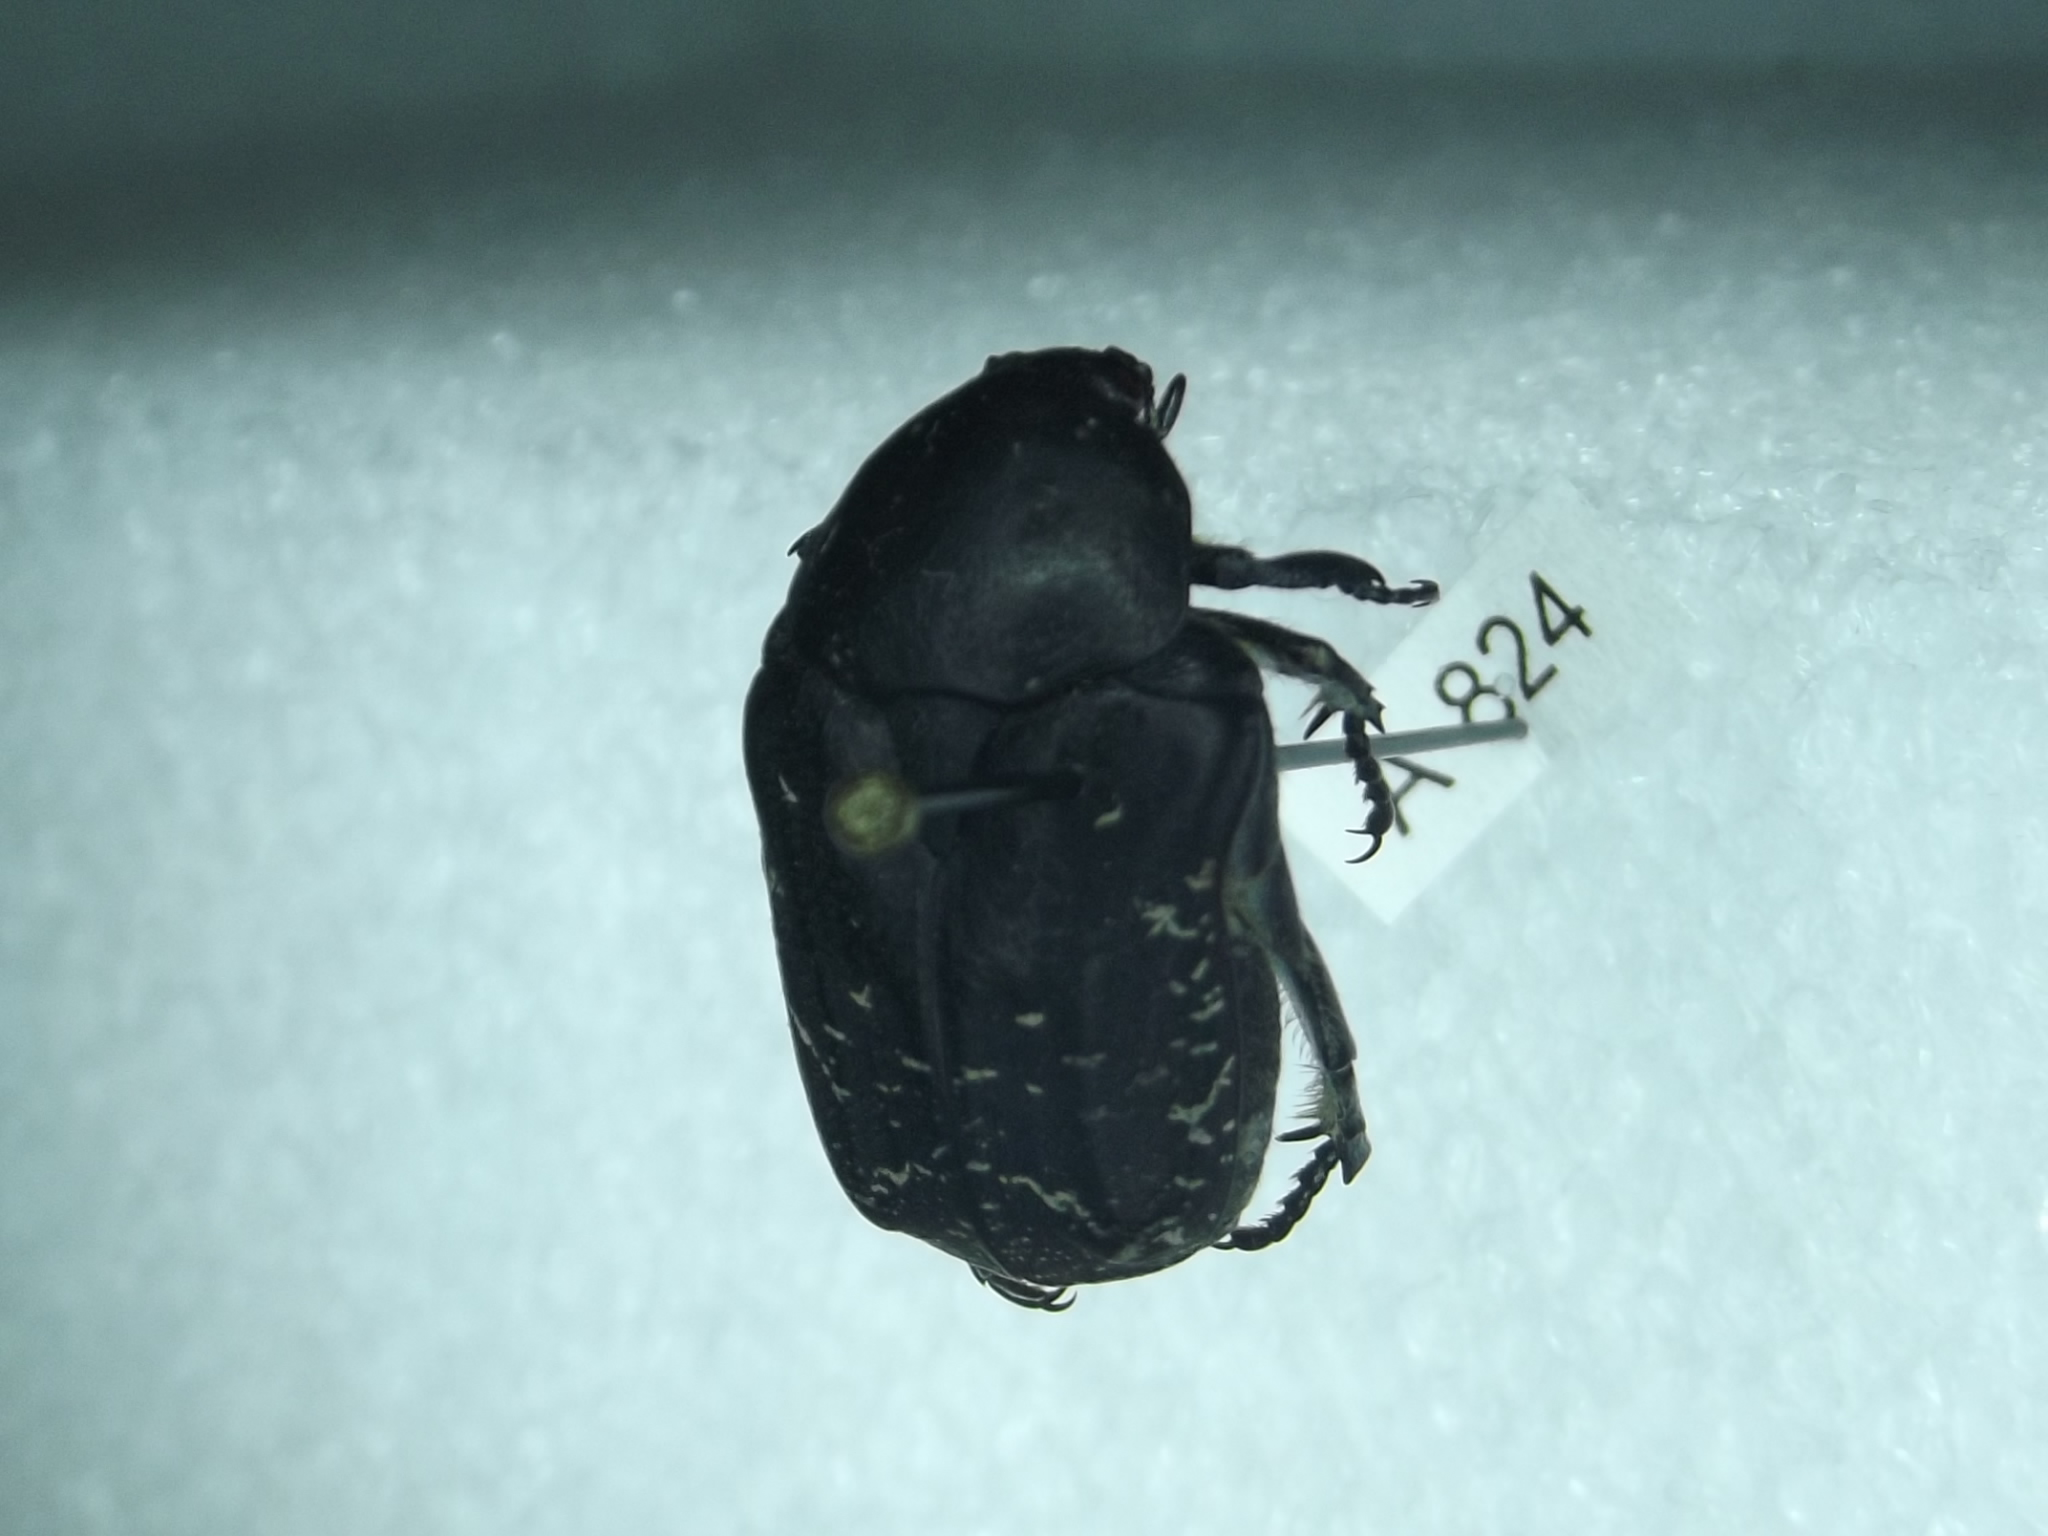Protaetia_oblonga: (735, 340, 1451, 1333)
